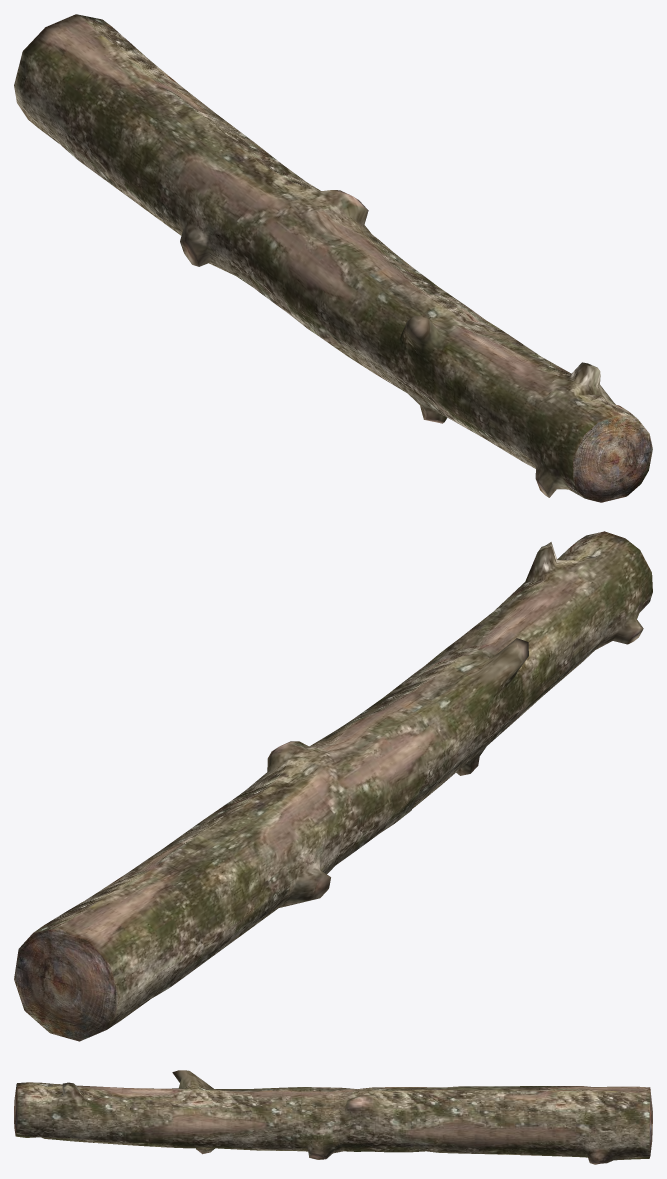
File: log_b.glb
The picture shows the model from 3 angles, top to bottom: view 1: azimuth 30°, elevation 25°; view 2: azimuth 150°, elevation 25°; view 3: azimuth 270°, elevation 25°; orthographic projection. The views are drawn at different scales.
Visible parts, largest first — view 1: log_b-convcol; view 2: log_b-convcol; view 3: log_b-convcol.
Part boxes in pixels (x1,y1,x2,y2): log_b-convcol: [14, 14, 652, 502]; log_b-convcol: [14, 531, 652, 1041]; log_b-convcol: [14, 1070, 652, 1164].
Size of the model in its own units: 0.5242 by 0.55 by 4.03.
1 material, 1 textured.
